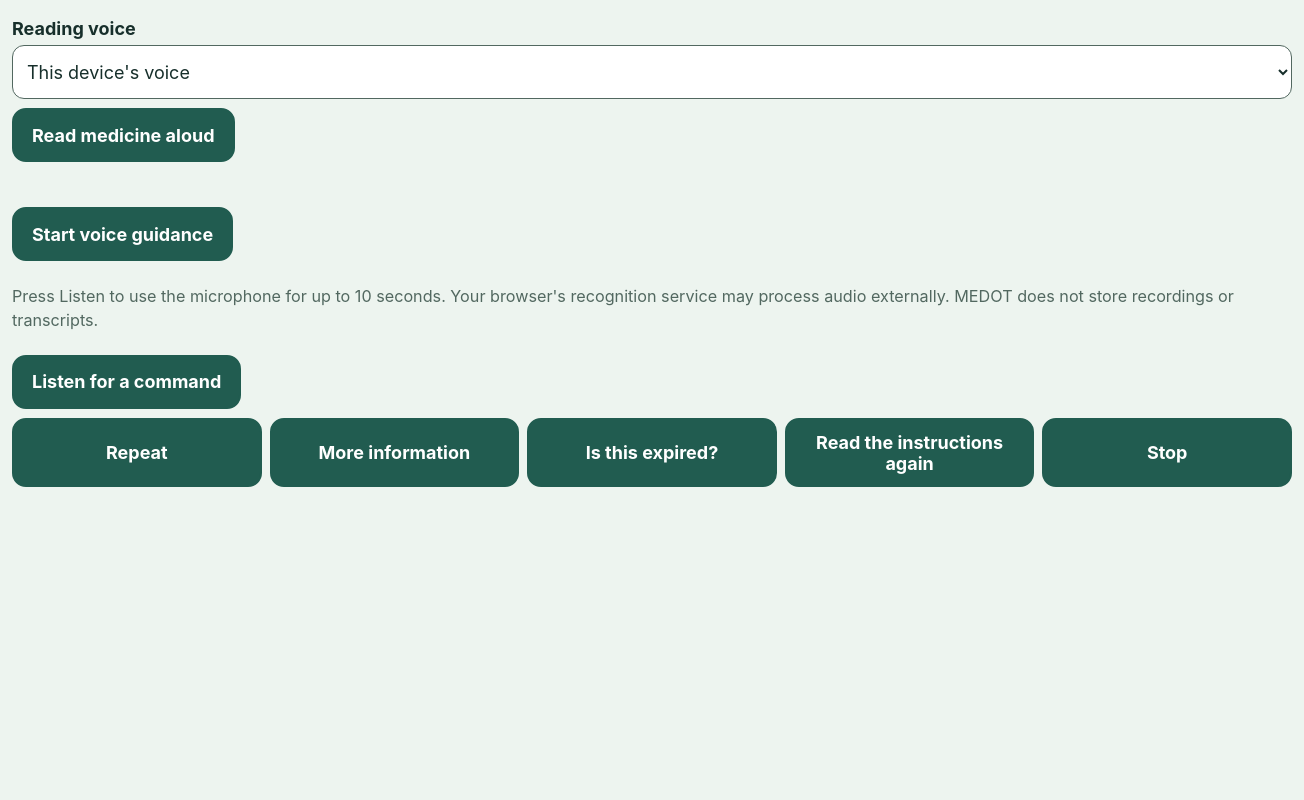
Test: a native speech error offers a retry and never leaves a permanent playing state
Click the button "Read medicine aloud": (123, 135) left=12, top=108, right=234, bottom=162
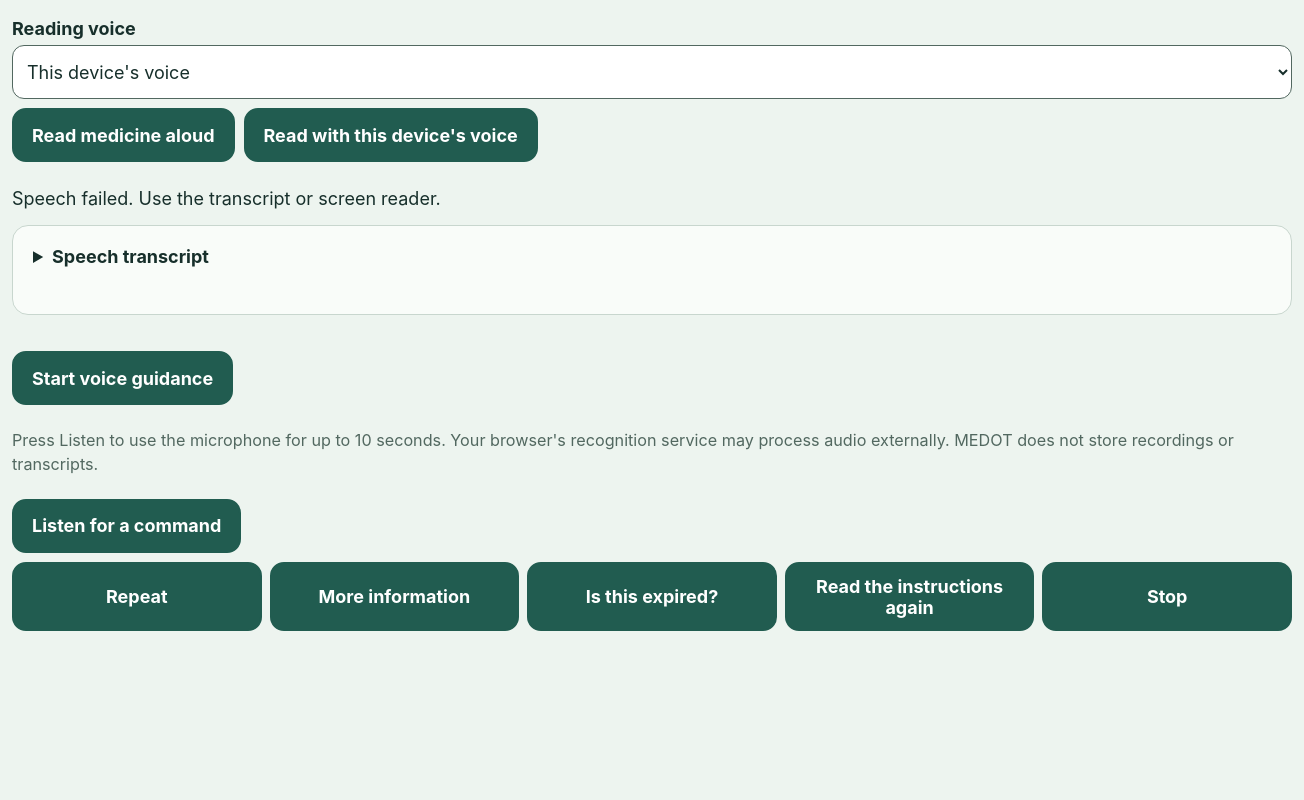
Now the button "Read with this device's voice" is shown, box left=244, top=108, right=538, bottom=162
